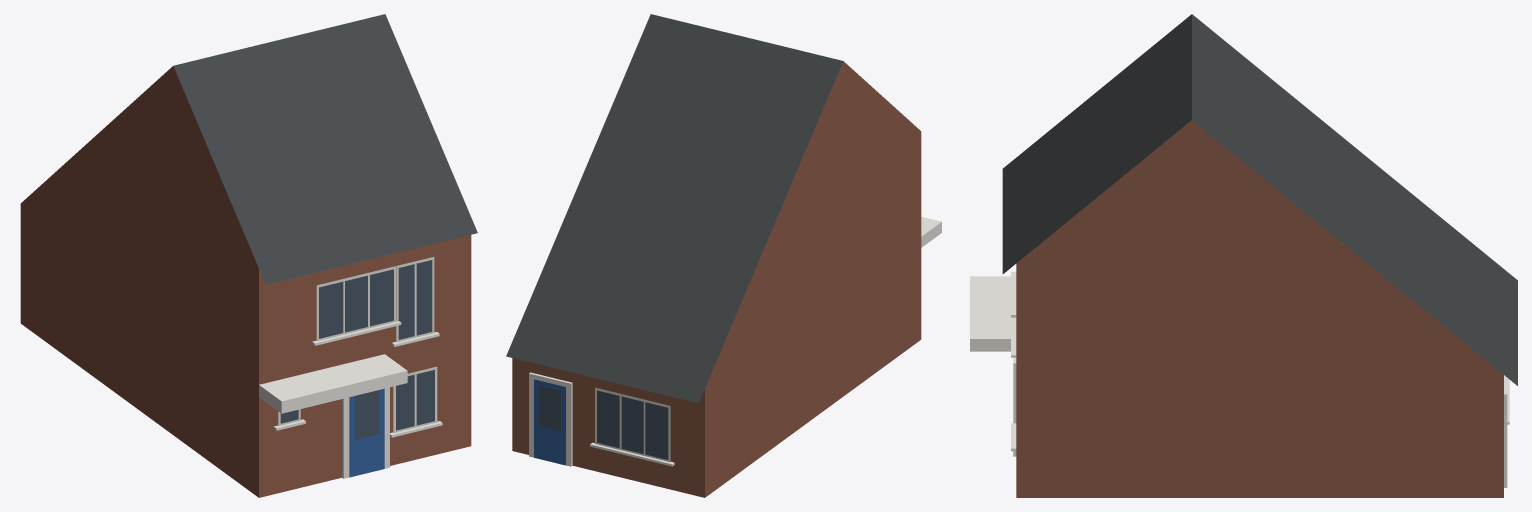
File: zo-g4-canopy-pair__blue-door__2__gable__long__solid.glb
The picture shows the model from 3 angles, left to right: view 1: azimuth 30°, elevation 25°; view 2: azimuth 150°, elevation 25°; view 3: azimuth 270°, elevation 25°; orthographic projection. The views are drawn at different scales.
Visible parts, largest first — view 1: zo-g4-canopy-pair__blue-door__2__gable__long__solid; view 2: zo-g4-canopy-pair__blue-door__2__gable__long__solid; view 3: zo-g4-canopy-pair__blue-door__2__gable__long__solid.
Boxes of the visible parts, left/top/right/bottom form: zo-g4-canopy-pair__blue-door__2__gable__long__solid: left=20, top=14, right=477, bottom=497; zo-g4-canopy-pair__blue-door__2__gable__long__solid: left=506, top=14, right=941, bottom=497; zo-g4-canopy-pair__blue-door__2__gable__long__solid: left=970, top=14, right=1517, bottom=497.
Size of the model in its own units: 5.39 by 8.98 by 11.79.
